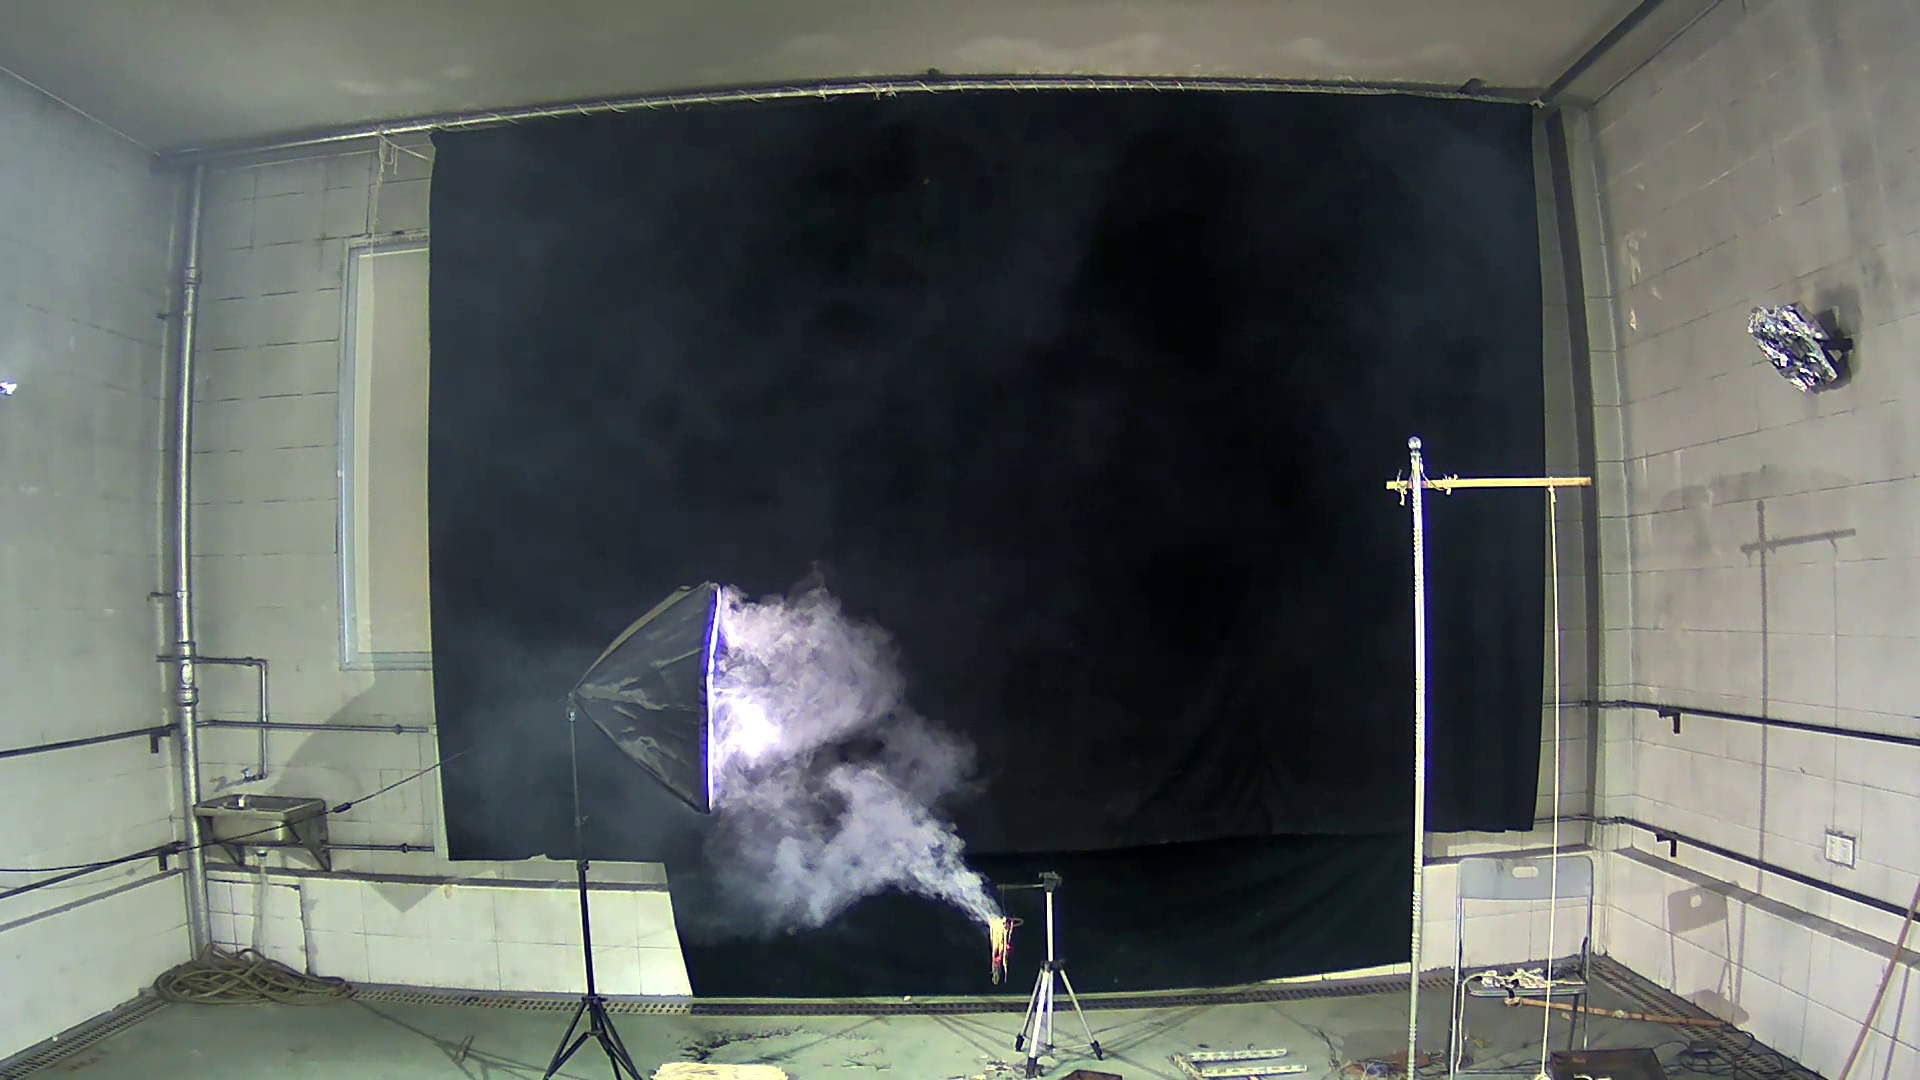smoke: (729, 541, 1015, 949)
